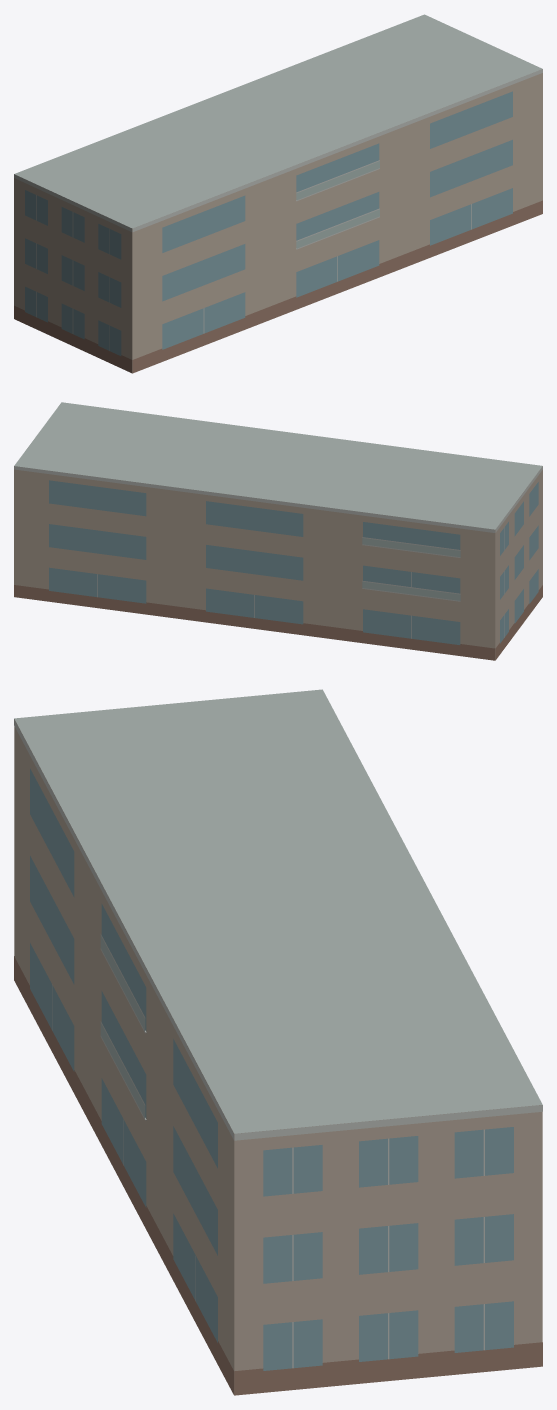
File: survey-upis-32990161.glb
The picture shows the model from 3 angles, top to bottom: view 1: azimuth 30°, elevation 25°; view 2: azimuth 150°, elevation 25°; view 3: azimuth 270°, elevation 25°; orthographic projection. The views are drawn at different scales.
Parts seen in each view (by area): view 1: survey-upis-32990161.tmp; view 2: survey-upis-32990161.tmp; view 3: survey-upis-32990161.tmp.
Part boxes in pixels (left/top/right/bottom): survey-upis-32990161.tmp: left=14, top=14, right=542, bottom=373; survey-upis-32990161.tmp: left=14, top=402, right=542, bottom=660; survey-upis-32990161.tmp: left=14, top=689, right=542, bottom=1395.
Size of the model in its own units: 33.32 by 9.15 by 16.76.
